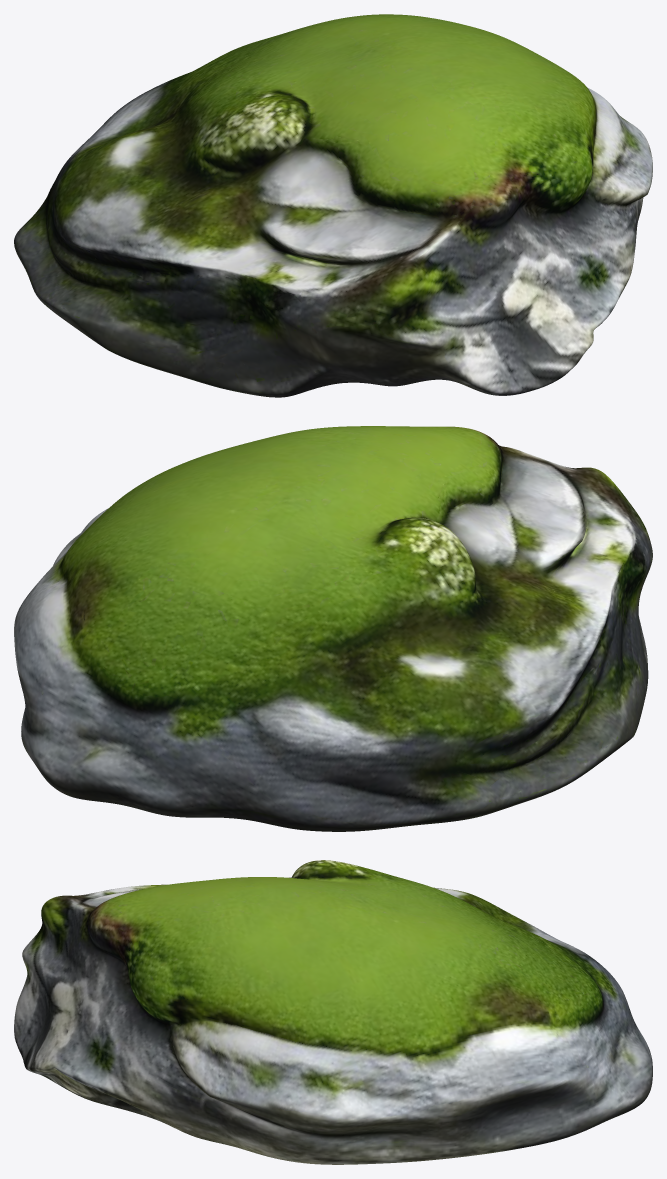
The model's file is prop_rock_b.glb.
3 renders of one model, top to bottom at view 1: azimuth 30°, elevation 25°; view 2: azimuth 150°, elevation 25°; view 3: azimuth 270°, elevation 25°, orthographic. The views are drawn at different scales.
Parts seen in each view (by area): view 1: node_0; view 2: node_0; view 3: node_0.
Boxes of the visible parts, x1,y1,x2,y2 form: node_0: (14, 14, 652, 397); node_0: (14, 426, 652, 831); node_0: (14, 860, 652, 1164).
Size of the model in its own units: 1 by 0.3553 by 1.12.
1 material, 1 textured.
